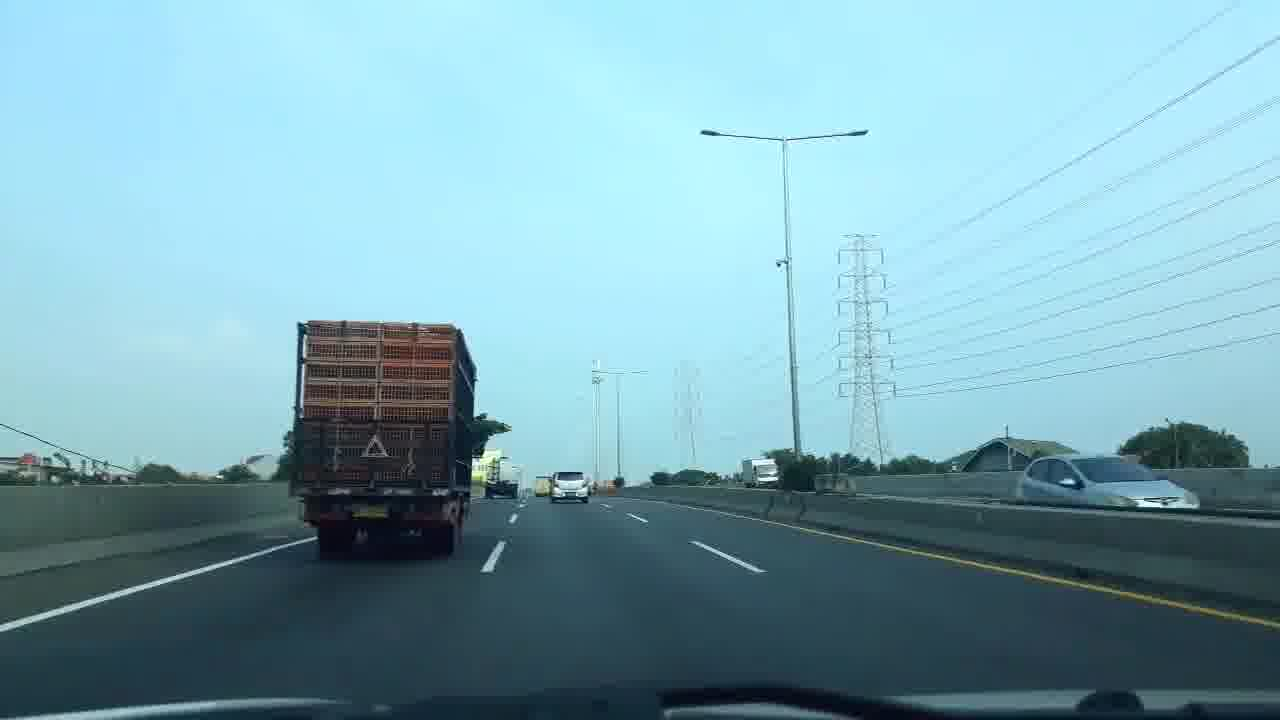plate_positive: (351, 505, 389, 518), (565, 492, 577, 497)
